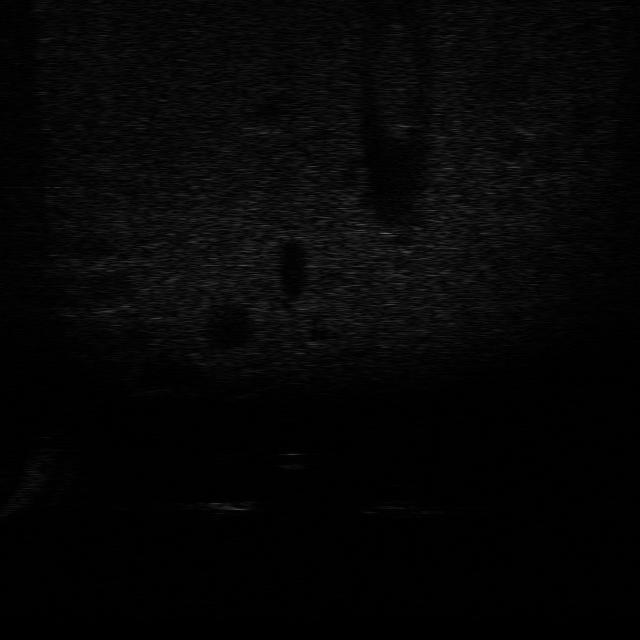ball: (265, 446, 315, 475)
square cage: (201, 491, 261, 521)
tyre: (355, 492, 443, 521)
